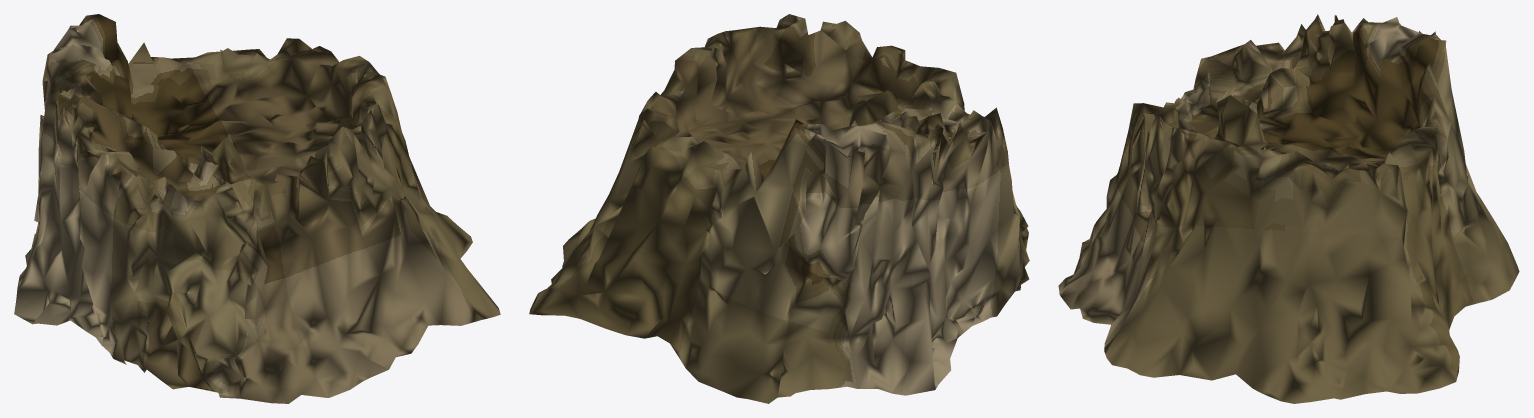
The model's file is stump-mossy-far.glb.
3 renders of one model, left to right at view 1: azimuth 30°, elevation 25°; view 2: azimuth 150°, elevation 25°; view 3: azimuth 270°, elevation 25°, orthographic. The views are drawn at different scales.
Parts seen in each view (by area): view 1: qdyf7_LOD0_TIER0_000; view 2: qdyf7_LOD0_TIER0_000; view 3: qdyf7_LOD0_TIER0_000.
Part boxes in pixels (<box>): qdyf7_LOD0_TIER0_000: <box>14,14,500,403</box>; qdyf7_LOD0_TIER0_000: <box>529,14,1029,403</box>; qdyf7_LOD0_TIER0_000: <box>1058,14,1519,403</box>.
Bounding box in the file's own units: 1.68 × 1.01 × 1.73.
Materials: 1 (1 with a texture image).
